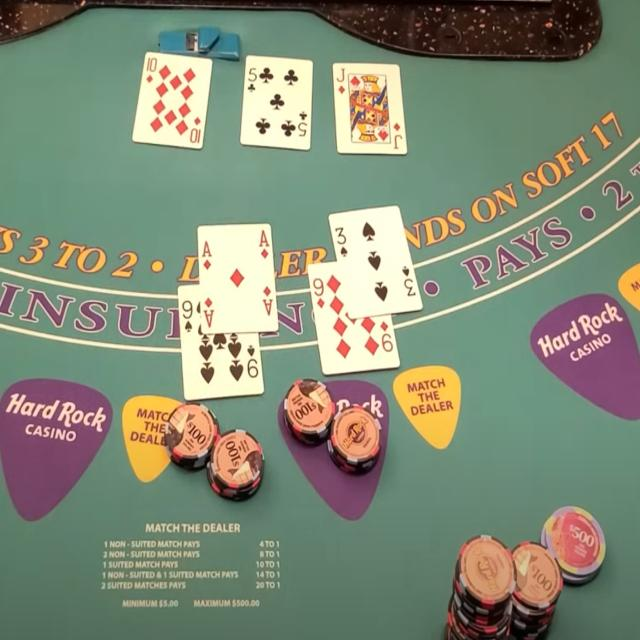10: (145, 55, 158, 73)
3: (334, 225, 351, 245)
5: (247, 65, 258, 83)
9: (178, 296, 196, 320), (312, 274, 326, 298)
A: (199, 236, 215, 259)
J: (335, 67, 347, 83)
